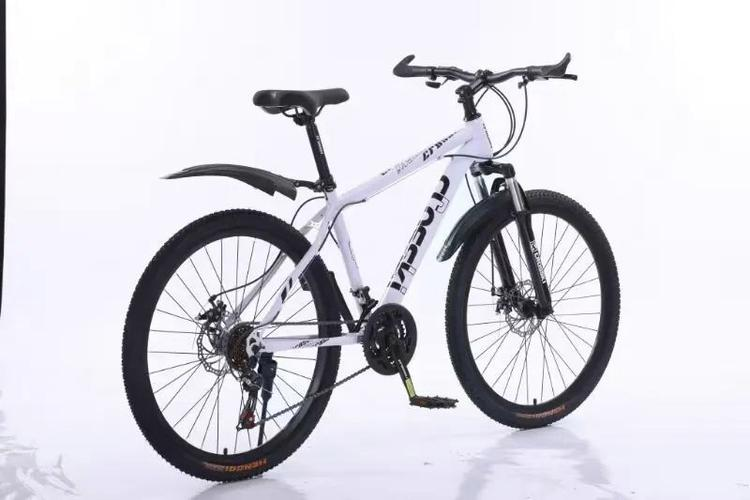单车: (111, 34, 668, 489)
